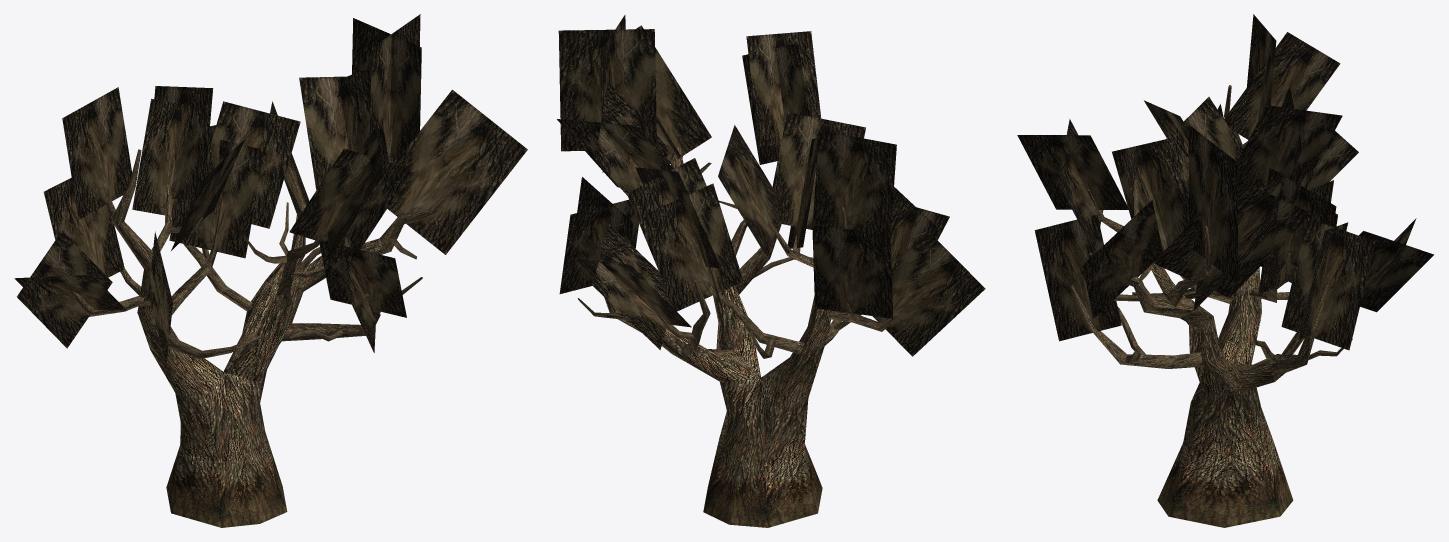
File: hr_tree04.glb
3 views of the same model, side by side, from view 1: azimuth 30°, elevation 25°; view 2: azimuth 150°, elevation 25°; view 3: azimuth 270°, elevation 25° (orthographic). The views are drawn at different scales.
Visible parts, largest first — view 1: hr_tree04; view 2: hr_tree04; view 3: hr_tree04.
Part boxes in pixels (bbox=[...]): hr_tree04: bbox=[14, 14, 527, 527]; hr_tree04: bbox=[557, 14, 985, 527]; hr_tree04: bbox=[1017, 14, 1433, 527].
Bounding box in the file's own units: 21.7 × 19.54 × 16.96.
Materials: 3 (3 with a texture image).
